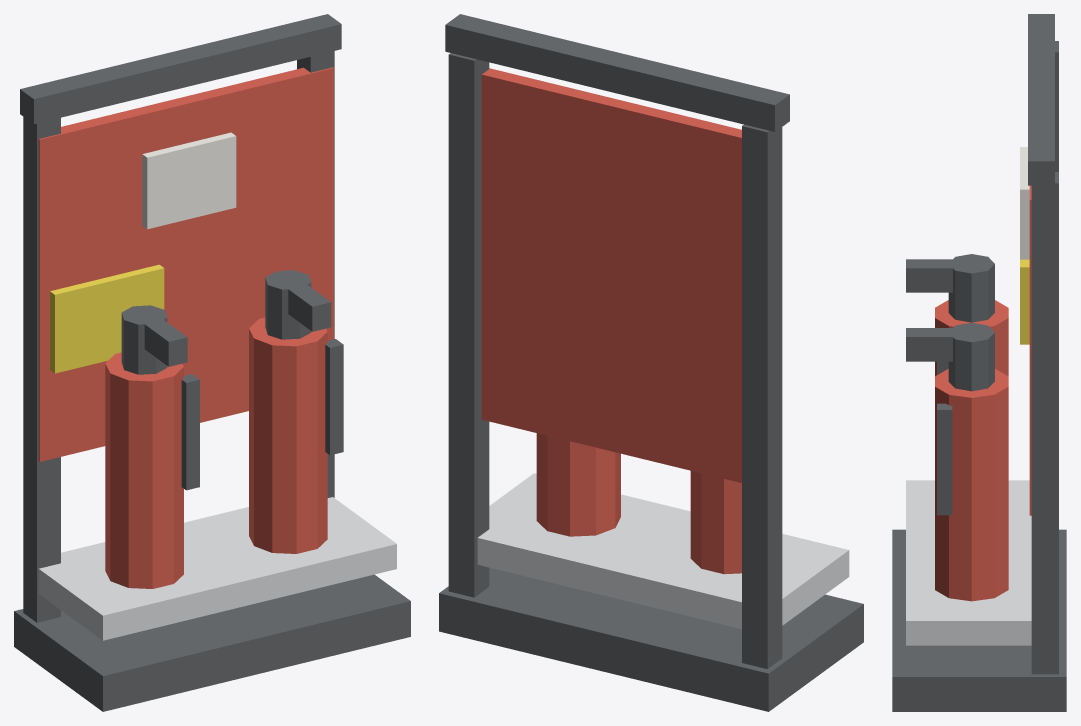
File: demolition-and-site-clearance-demolition-and-site-clea-81ebda2a__35709.glb
3 views of the same model, side by side, from view 1: azimuth 30°, elevation 25°; view 2: azimuth 150°, elevation 25°; view 3: azimuth 270°, elevation 25° (orthographic). The views are drawn at different scales.
Visible parts, largest first — view 1: demolition-and-site-clearance-fire-point; view 2: demolition-and-site-clearance-fire-point; view 3: demolition-and-site-clearance-fire-point.
Boxes of the visible parts, x1,y1,x2,y2 form: demolition-and-site-clearance-fire-point: (14,14,410,711); demolition-and-site-clearance-fire-point: (439,14,863,711); demolition-and-site-clearance-fire-point: (892,14,1066,711).
Size of the model in its own units: 0.8999 by 1.57 by 0.4501.
